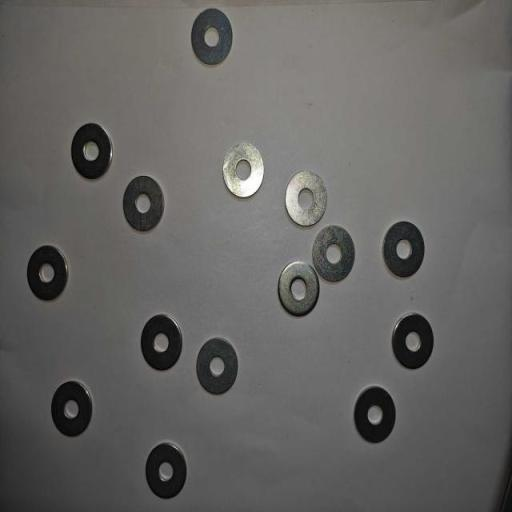washer: (311, 224, 355, 282), (382, 220, 426, 278), (26, 244, 69, 302), (196, 337, 238, 396), (354, 385, 396, 444), (190, 8, 233, 65), (140, 314, 183, 371), (392, 312, 434, 370), (222, 142, 265, 198), (70, 123, 113, 179), (122, 175, 165, 231), (50, 381, 93, 437), (145, 442, 187, 499), (285, 171, 327, 227), (278, 261, 319, 317)
